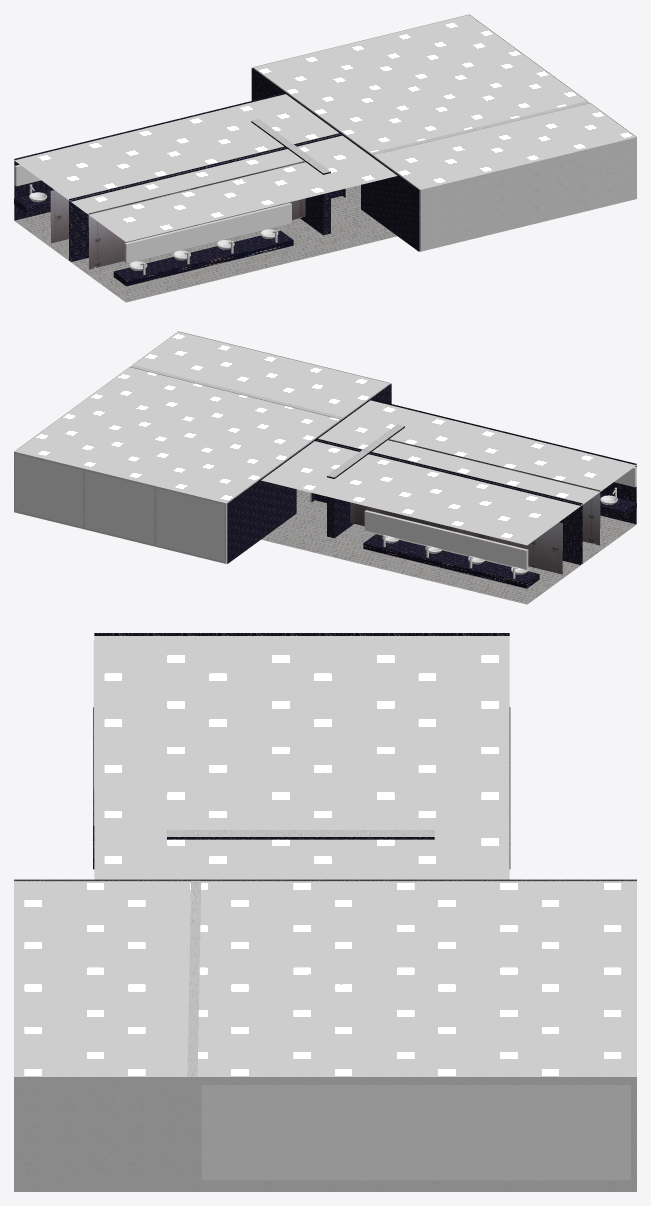
3 renders of one model, top to bottom at view 1: azimuth 30°, elevation 25°; view 2: azimuth 150°, elevation 25°; view 3: azimuth 270°, elevation 25°, orthographic. The views are drawn at different scales.
Visible parts, largest first — view 1: OfficeFloor.001, BathroomFloor.001, Walls, BathroomFloor, Cube.001, SinkCounter.001, Sink.001, SinkCounter; view 2: OfficeFloor.001, BathroomFloor.001, Walls, BathroomFloor, Cube, SinkCounter, SinkCounter.001; view 3: OfficeFloor.001, BathroomFloor.001, Walls.
Boxes of the visible parts, box(x1,y1,x2,y2) form: OfficeFloor.001: box(253, 15, 635, 189); BathroomFloor.001: box(14, 94, 397, 241); Walls: box(14, 14, 636, 269); BathroomFloor: box(14, 196, 397, 302); Cube.001: box(124, 203, 291, 263); SinkCounter.001: box(113, 230, 293, 286); Sink.001: box(129, 229, 278, 270); SinkCounter: box(14, 189, 54, 213); OfficeFloor.001: box(15, 332, 389, 503); BathroomFloor.001: box(261, 400, 636, 545); Walls: box(14, 331, 636, 574); BathroomFloor: box(261, 500, 636, 604); Cube: box(364, 510, 528, 569); SinkCounter: box(363, 534, 539, 588); SinkCounter.001: box(600, 494, 636, 517); OfficeFloor.001: box(14, 881, 636, 1076); BathroomFloor.001: box(94, 636, 509, 879); Walls: box(14, 633, 636, 1191).
Size of the model in its own units: 5318 by 643 by 3156.
Materials: 12 (4 with a texture image).
